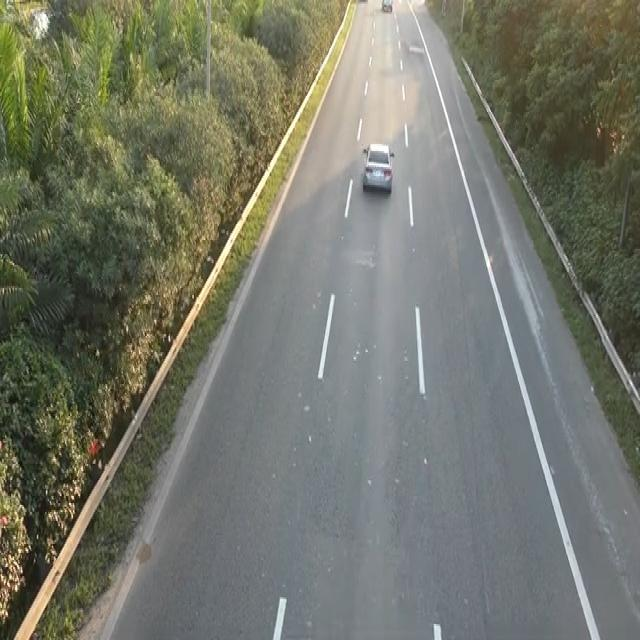bus: (360, 138, 395, 194), (380, 0, 393, 12)
